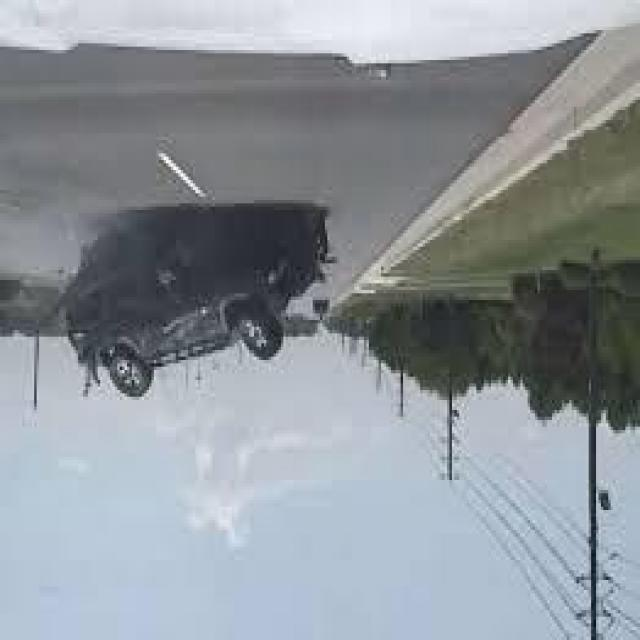severe: (62, 198, 334, 402)
